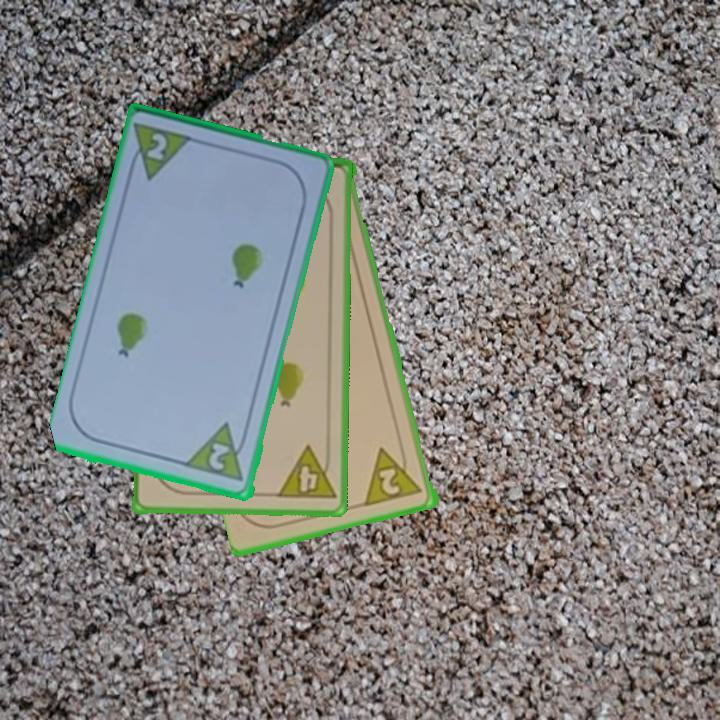2p: (124, 120, 197, 184), (362, 441, 427, 509), (205, 439, 233, 474)
4p: (273, 443, 338, 503)
